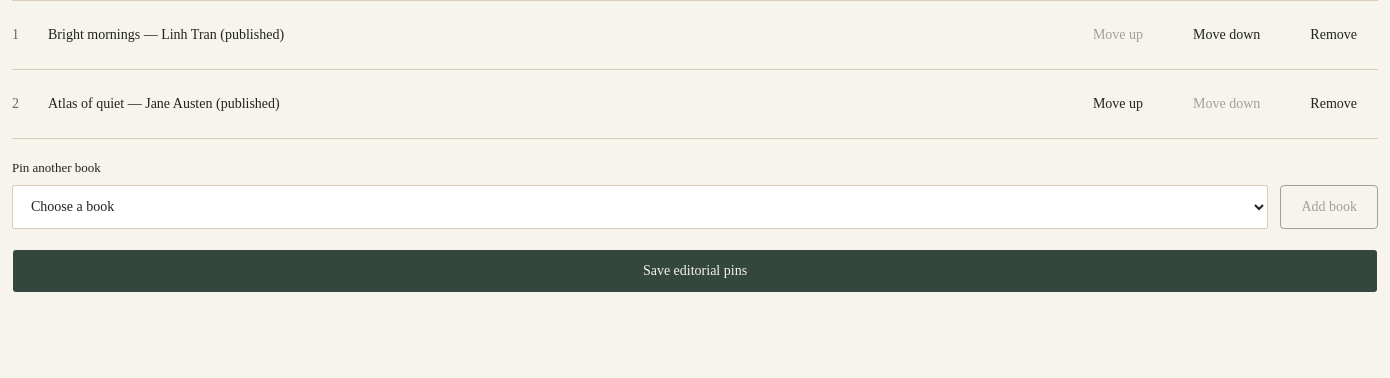
posts the saved pin order and says which pin is a draft
Expected: the list item "Chasing rivers" is not shown
Select "Chasing rivers — Minh Le (draft)" in the dropdown labelled "Pin another book" at {"x": 640, "y": 207}, box x1=12 y1=185 x2=1268 y2=229
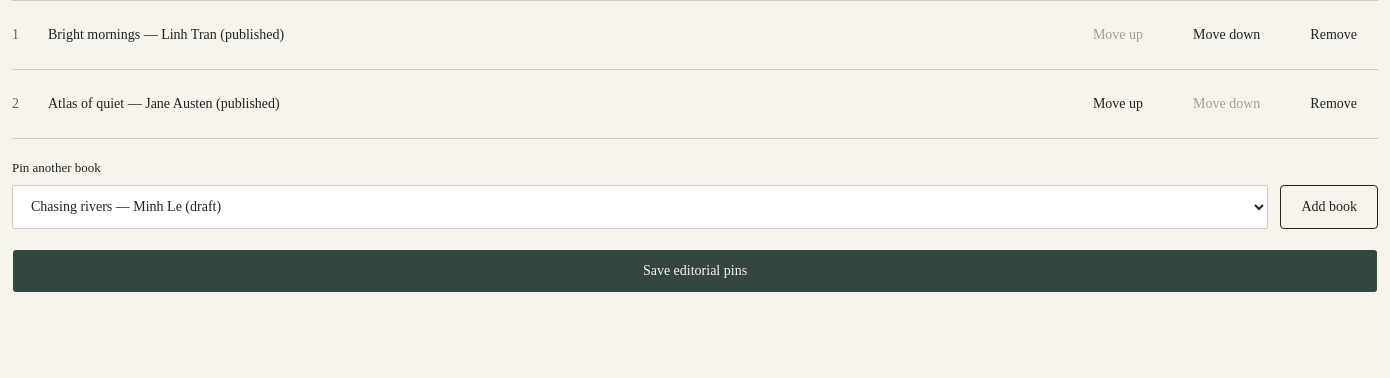
Click the button "Add book" at {"x": 1329, "y": 207}, box x1=1280 y1=185 x2=1378 y2=229
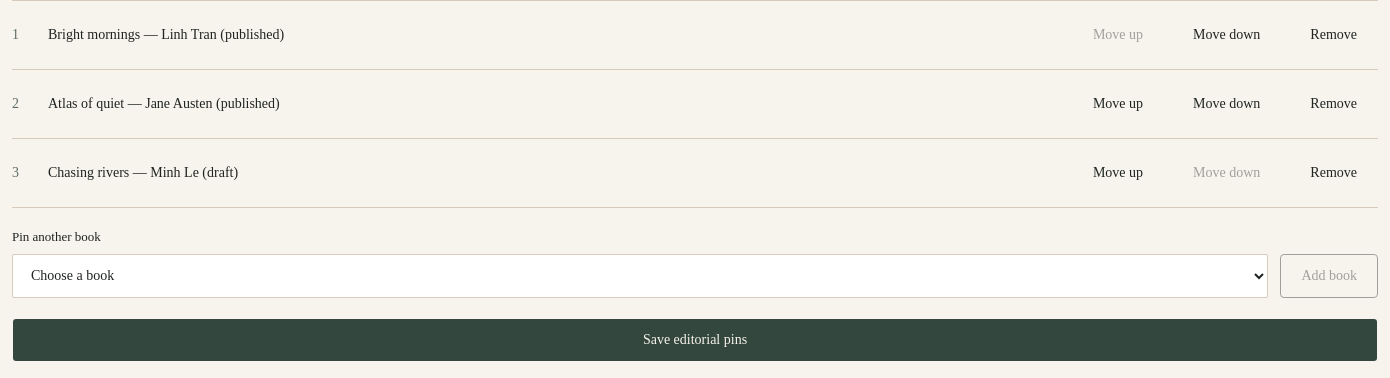
Expected: the list item "3 Chasing rivers — Minh Le (draft)" is shown, x1=12 y1=139 x2=1378 y2=208
